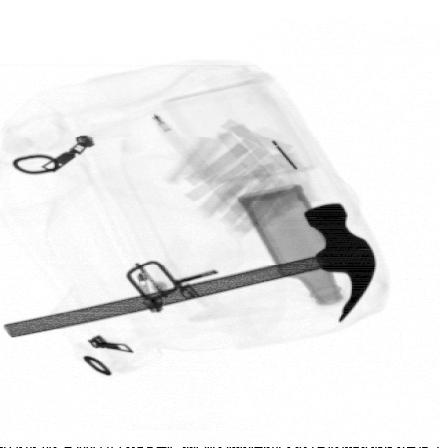Hammer: (3, 203, 378, 338)
